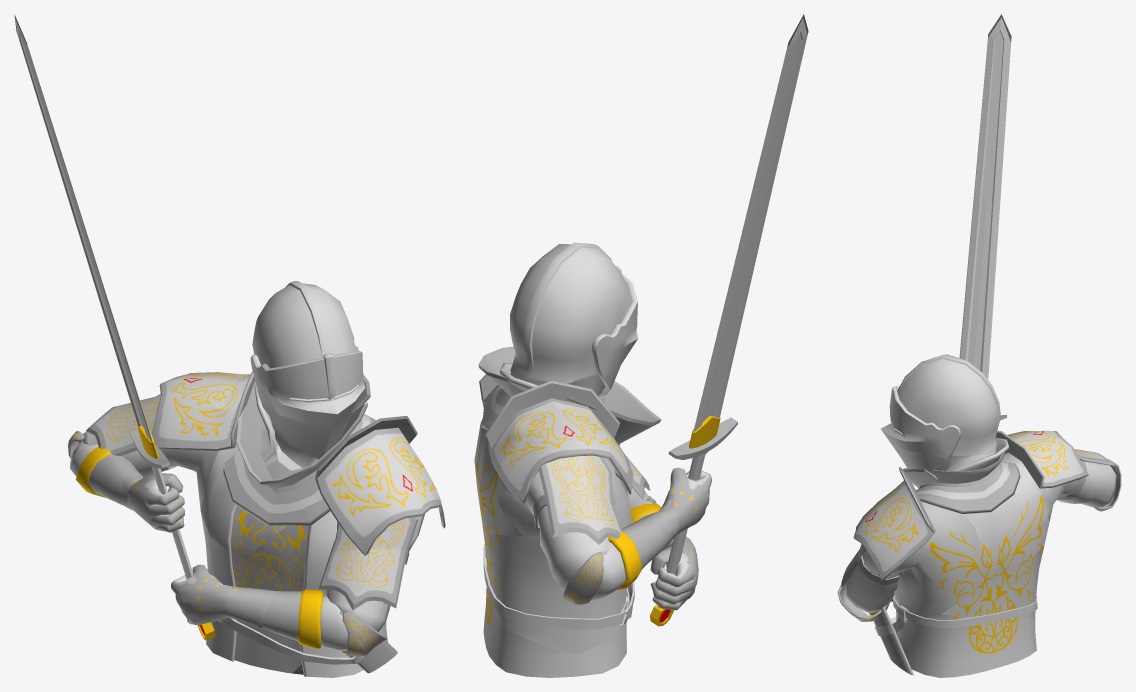
File: knight_shattered.fbx
3 renders of one model, left to right at view 1: azimuth 30°, elevation 25°; view 2: azimuth 150°, elevation 25°; view 3: azimuth 270°, elevation 25°, orthographic. The views are drawn at different scales.
Parts seen in each view (by area): view 1: knight_upperBody, knight_headTop, knight_rightArm, knight_leftPauldron, knight_handsHeldSword, knight_leftArm, knight_midBodyLeftCut, knight_lowerBody, knight_midBody, knight_swordTip; view 2: knight_rightArm, knight_headTop, knight_handsHeldSword, knight_upperBody, knight_midBody, knight_lowerBody, knight_swordTip, knight_leftArm; view 3: knight_upperBody, knight_headTop, knight_lowerBody, knight_midBodyLeftCut, knight_rightArm, knight_handsHeldSword, knight_leftPauldron, knight_swordTip, knight_midBody, knight_leftArm.
Boxes of the visible parts, x1,y1,x2,y2 form: knight_upperBody: (200,371,372,557); knight_headTop: (250,281,365,426); knight_rightArm: (68,372,247,509); knight_leftPauldron: (315,416,445,555); knight_handsHeldSword: (73,215,273,640); knight_leftArm: (262,547,409,656); knight_midBodyLeftCut: (249,418,424,594); knight_lowerBody: (206,618,397,677); knight_midBody: (200,511,324,622); knight_swordTip: (14,15,80,216); knight_rightArm: (490,407,674,605); knight_headTop: (510,242,638,383); knight_handsHeldSword: (642,199,769,626); knight_upperBody: (476,346,661,536); knight_midBody: (481,517,634,654); knight_lowerBody: (483,542,634,677); knight_swordTip: (744,14,808,223); knight_leftArm: (625,454,660,522); knight_upperBody: (891,430,1049,572); knight_headTop: (881,354,1000,457); knight_lowerBody: (869,604,1036,677); knight_midBodyLeftCut: (857,495,1006,614); knight_rightArm: (1005,430,1121,520); knight_handsHeldSword: (959,192,1006,420); knight_leftPauldron: (853,467,935,581); knight_swordTip: (974,14,1011,206); knight_midBody: (893,545,1044,622); knight_leftArm: (837,548,898,621).
Size of the model in its own units: 147 by 265 by 127.
